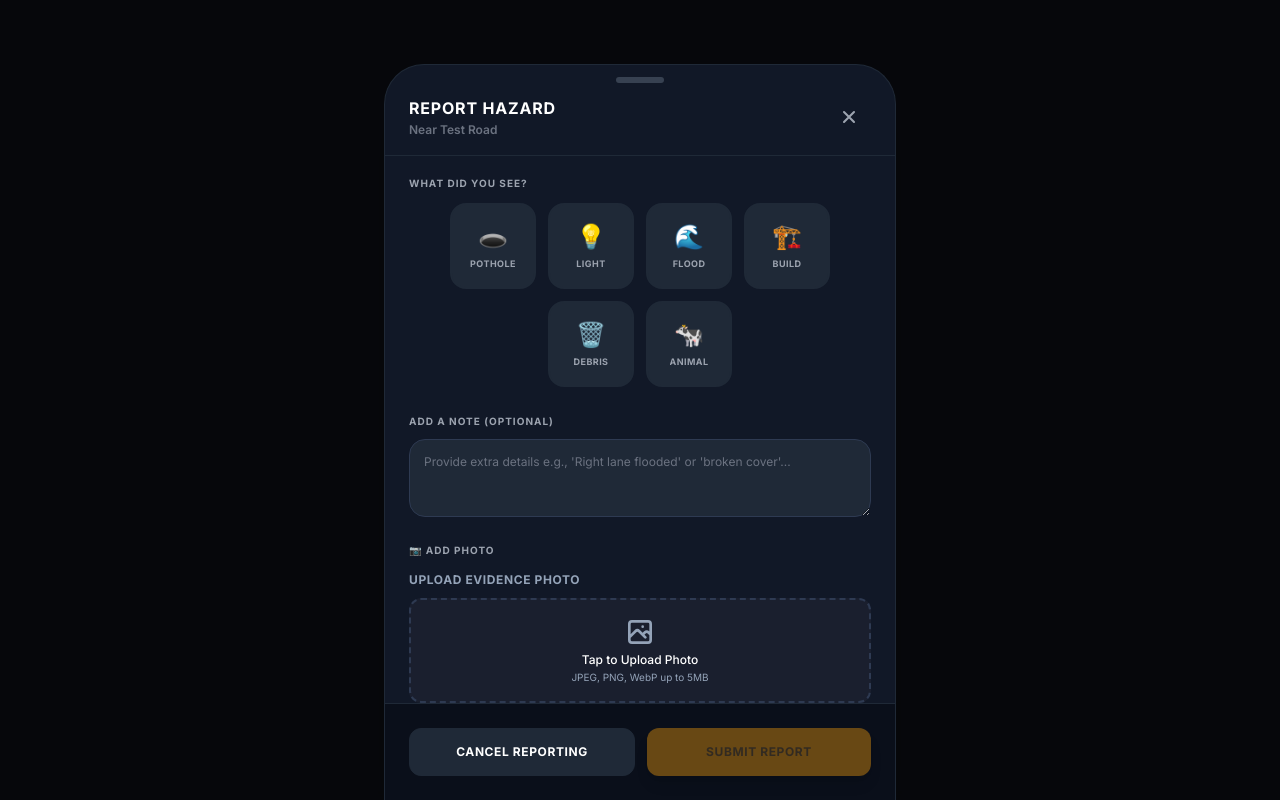
Test: ReportModal › submit button is disabled until a hazard type is selected
This screenshot has width=1280, height=800.
Check: the button "Submit Report" is disabled, box [647,728,871,776]
Step 1. Click the button "🕳️ Pothole" → (493, 246), box [450,203,536,289]
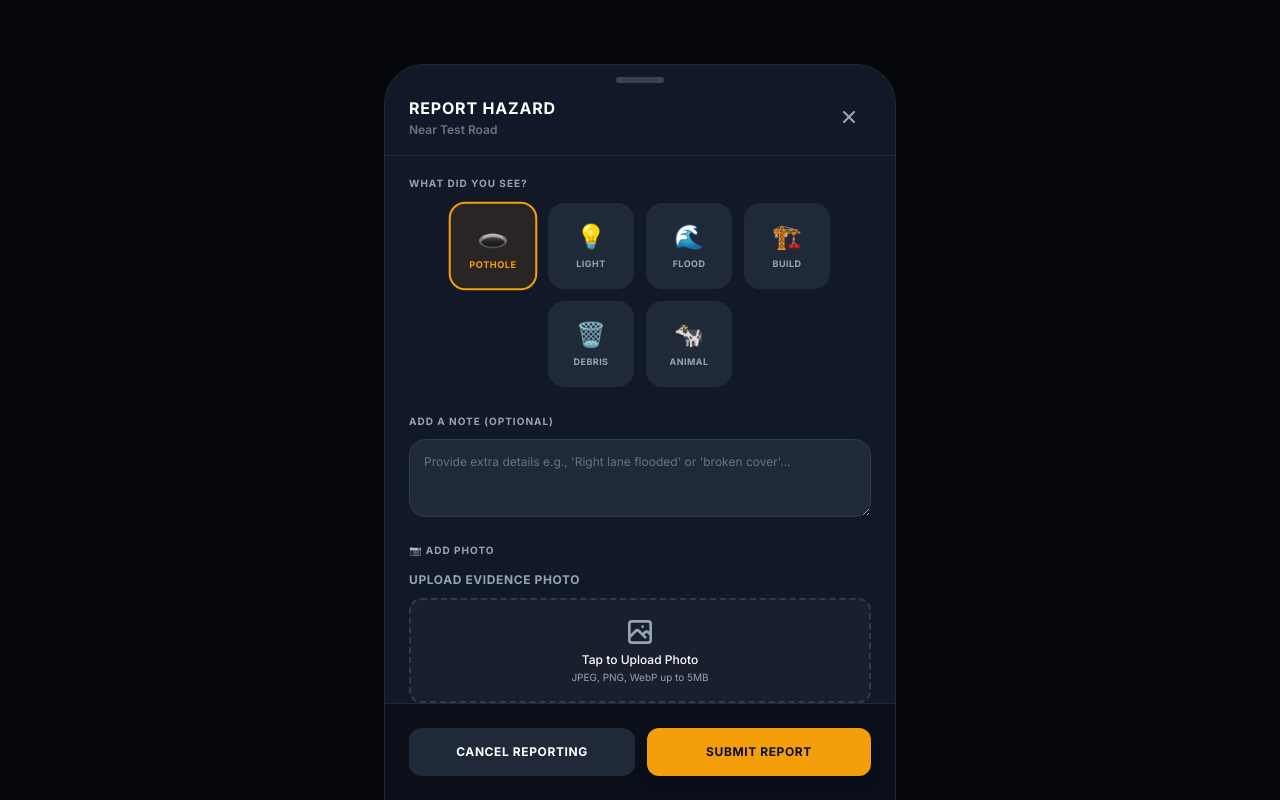
Check: the button "Submit Report" is enabled, box [647,728,871,776]
